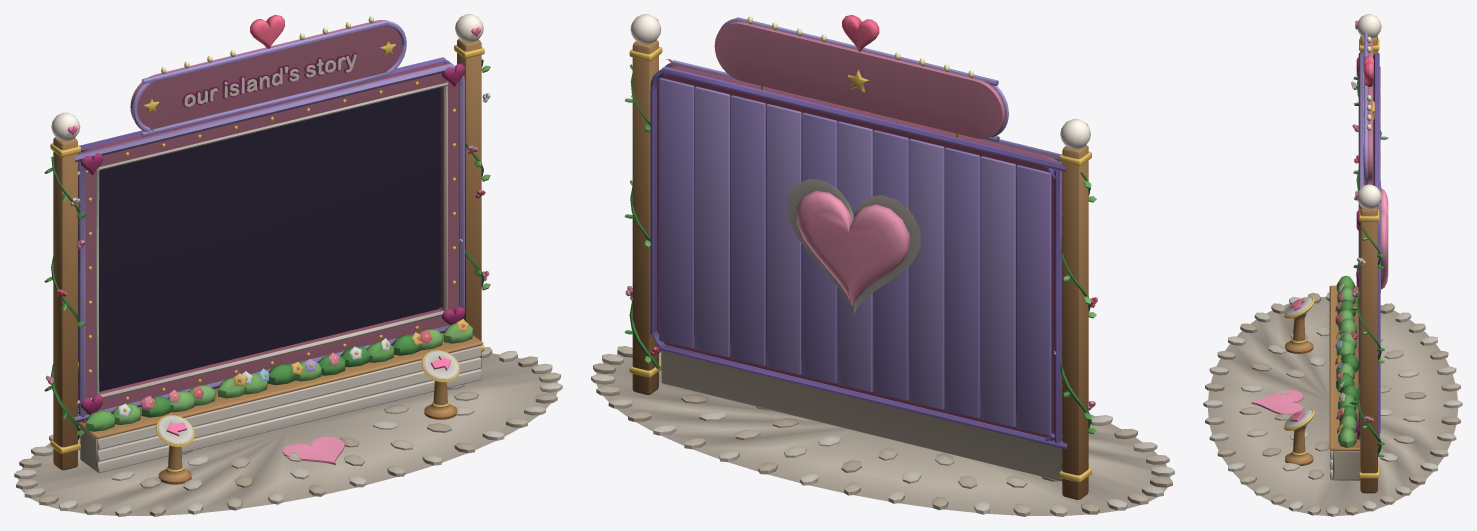
File: prp_story_wall.glb
3 views of the same model, side by side, from view 1: azimuth 30°, elevation 25°; view 2: azimuth 150°, elevation 25°; view 3: azimuth 270°, elevation 25° (orthographic). The views are drawn at different scales.
Parts seen in each view (by area): view 1: SM_props_prop_vc_x0_z0, SM_prp_story_wall_screen, SM_props_prop_vc_gloss_x0_z0, SM_props_prop_vc_metal_x0_z0, SM_prp_story_wall_prev, SM_prp_story_wall_next; view 2: SM_props_prop_vc_x0_z0, SM_props_prop_vc_gloss_x0_z0, SM_props_prop_vc_metal_x0_z0, SM_prp_story_wall_screen; view 3: SM_props_prop_vc_x0_z0, SM_props_prop_vc_gloss_x0_z0, SM_props_prop_vc_metal_x0_z0.
Part boxes in pixels (box(x1,y1,x2,y2)): SM_props_prop_vc_x0_z0: box(14, 20, 562, 516); SM_prp_story_wall_screen: box(99, 87, 440, 391); SM_props_prop_vc_gloss_x0_z0: box(51, 14, 483, 465); SM_props_prop_vc_metal_x0_z0: box(50, 40, 484, 472); SM_prp_story_wall_prev: box(157, 415, 193, 444); SM_prp_story_wall_next: box(423, 351, 458, 379); SM_props_prop_vc_x0_z0: box(591, 17, 1174, 516); SM_props_prop_vc_gloss_x0_z0: box(630, 14, 1090, 305); SM_props_prop_vc_metal_x0_z0: box(629, 46, 1091, 482); SM_prp_story_wall_screen: box(694, 96, 1016, 413); SM_props_prop_vc_x0_z0: box(1203, 32, 1462, 516); SM_props_prop_vc_gloss_x0_z0: box(1251, 14, 1388, 439); SM_props_prop_vc_metal_x0_z0: box(1292, 38, 1379, 478).
Bounding box in the file's own units: 10.94 × 8 × 5.38.
